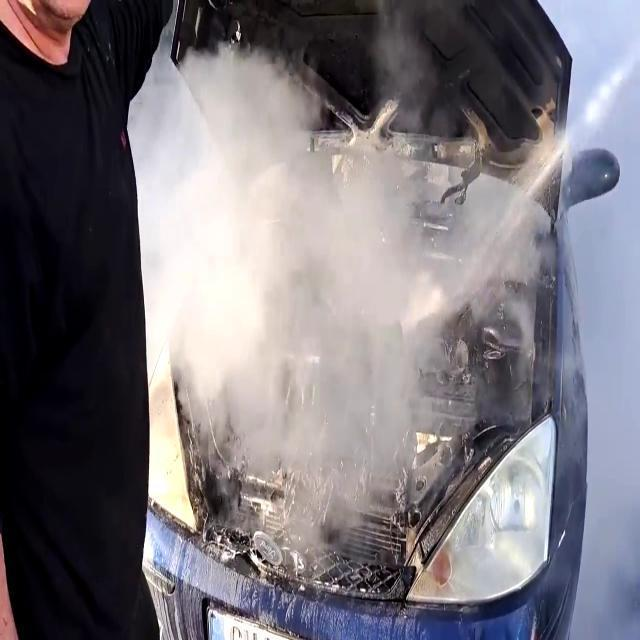Smoke: (141, 44, 487, 588)
